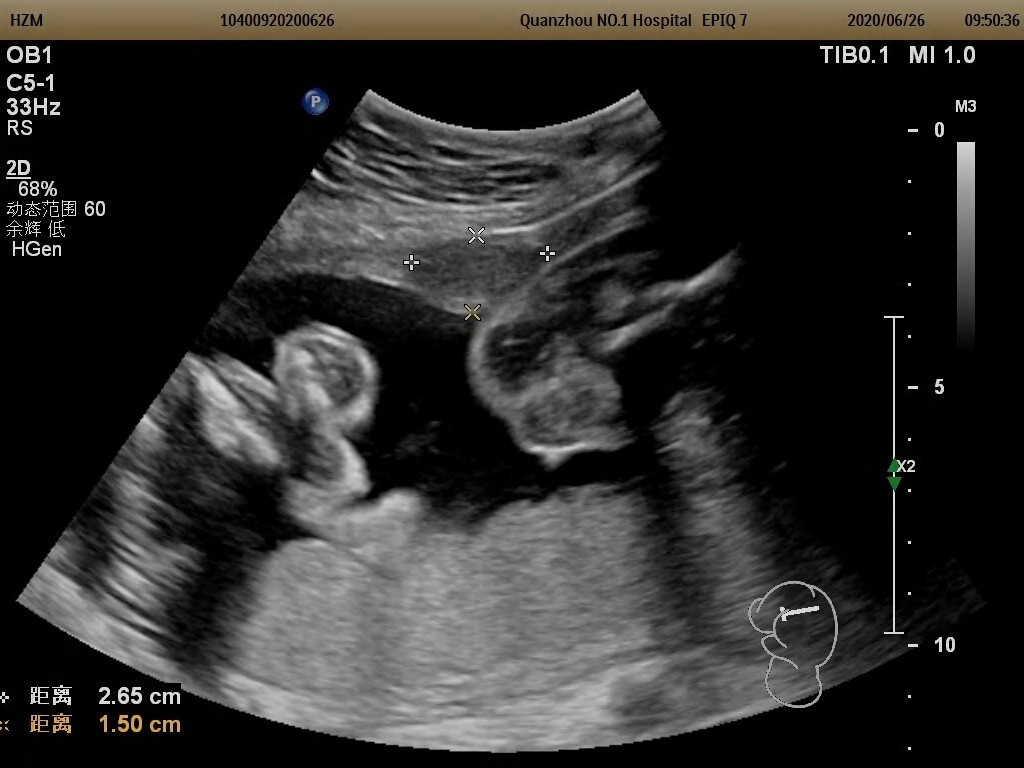肌瘤: (411, 238, 551, 315)
